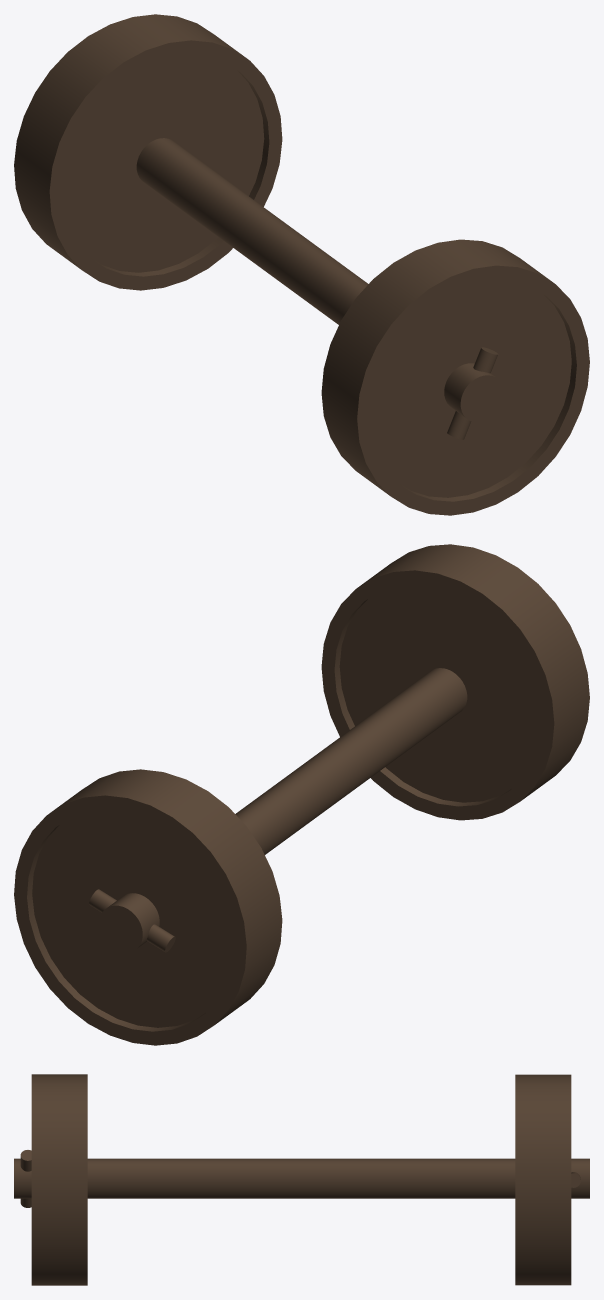
The model's file is catapult_wheel_2.obj.
3 renders of one model, top to bottom at view 1: azimuth 30°, elevation 25°; view 2: azimuth 150°, elevation 25°; view 3: azimuth 270°, elevation 25°, orthographic. The views are drawn at different scales.
Visible parts, largest first — view 1: catapult_wheel_2; view 2: catapult_wheel_2; view 3: catapult_wheel_2.
Boxes of the visible parts, bbox=[...] form: catapult_wheel_2: bbox=[14, 14, 589, 515]; catapult_wheel_2: bbox=[14, 544, 589, 1045]; catapult_wheel_2: bbox=[14, 1074, 589, 1285].
Bounding box in the file's own units: 1368 × 1368 × 3726.
